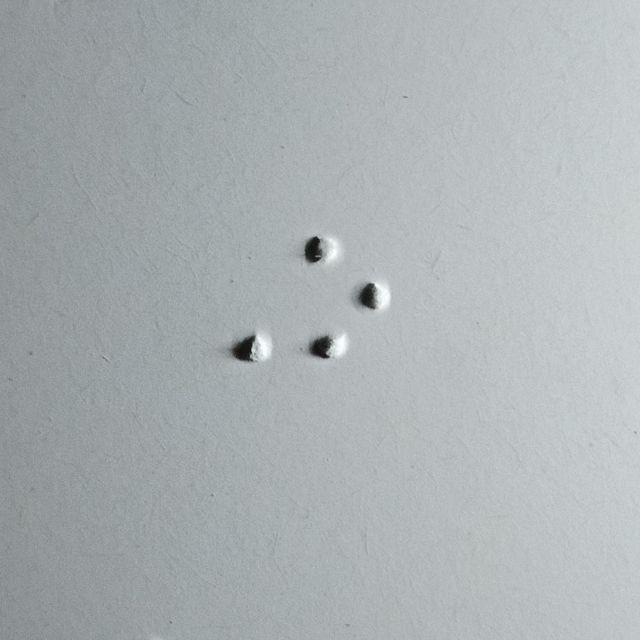O: (306, 236, 392, 360)
capital: (185, 241, 270, 364)
